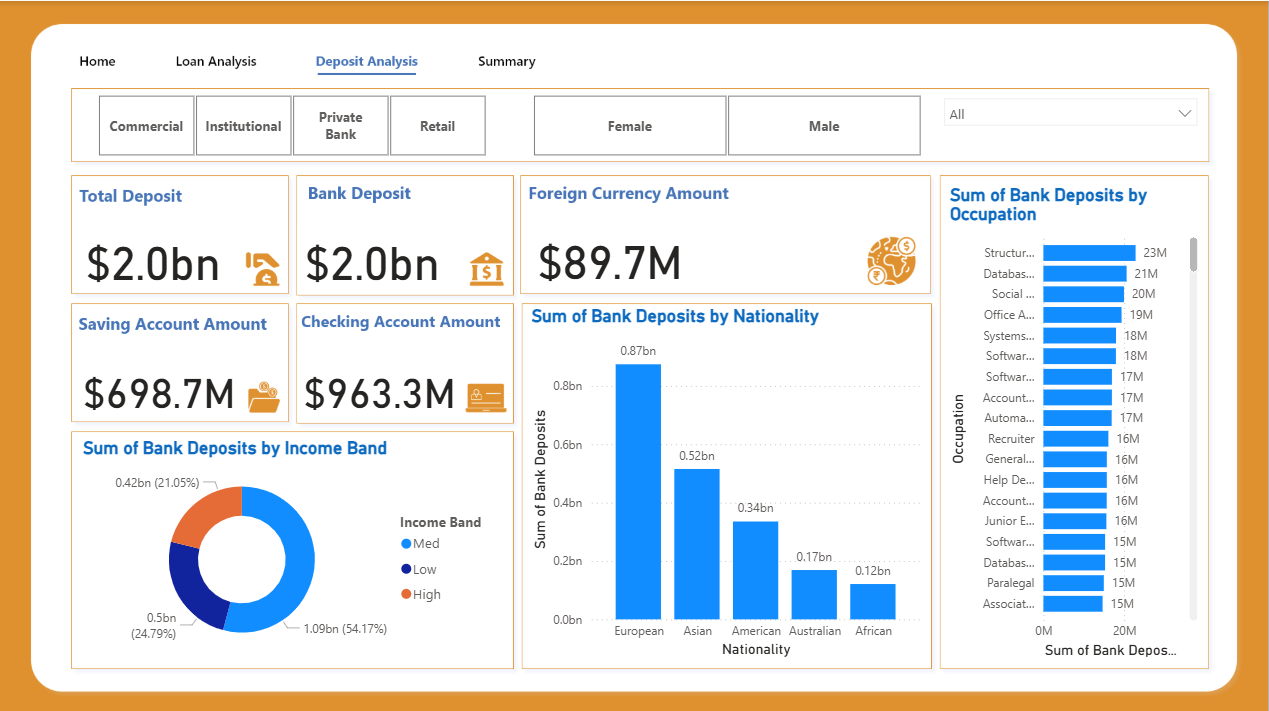

The page's visual inventory and layout, read from the dashboard file:
{"tool":"powerbi","page":{"name":"Deposit Analysis","canvas":[1280,720],"ordinal":2},"visuals":[{"type":"actionButton","box":[53.3,44,99.9,39.9],"z":0},{"type":"actionButton","box":[314.4,44,116.8,39.9],"z":1000},{"type":"actionButton","box":[452.7,44,116.8,39.9],"z":2000},{"type":"actionButton","box":[164.4,44.6,99.9,39.9],"z":3000},{"type":"slicer","fields":{"Values":["Banking.BRId"]},"box":[78.4,92.2,430.2,66.1],"z":4000},{"type":"slicer","fields":{"Values":["Banking.GenderId"]},"box":[517.7,92.2,430.2,66.1],"z":5000},{"type":"slicer","fields":{"Values":["Banking.IAId"]},"box":[947.9,92.2,265.8,66.1],"z":6000},{"type":"card","fields":{"Values":["Banking.Total Deposit"]},"box":[78.4,227.4,150.6,64.5],"z":7000},{"type":"card","fields":{"Values":["Sum(Banking.Bank Deposits)"]},"box":[299.6,227.4,150.6,64.5],"z":8000},{"type":"card","fields":{"Values":["Banking.Total Saving Amount"]},"box":[73.6,359.5,172.1,63.9],"z":9000},{"type":"card","fields":{"Values":["Sum(Banking.Checking Accounts)"]},"box":[299.6,359.5,165.9,64.5],"z":10000},{"type":"card","fields":{"Values":["Sum(Banking.Foreign Currency Account)"]},"box":[533.1,224.3,164.4,69.1],"z":11000},{"type":"donutChart","fields":{"Category":["Banking.Income Band"],"Y":["Sum(Banking.Bank Deposits)"]},"box":[78.4,440.9,430.2,225.8],"z":12000},{"type":"clusteredColumnChart","fields":{"Category":["Banking.Nationality"],"Y":["Sum(Banking.Bank Deposits)"]},"box":[531.6,307.3,402.5,359.5],"z":13000},{"type":"clusteredBarChart","fields":{"Category":["Banking.Occupation"],"Y":["Sum(Banking.Bank Deposits)"]},"box":[954,184.4,259.6,482.4],"z":14000}]}

Visuals, with their boxes in screenshot pixels (x1, y1, x2, y2), scaled from the page's 1280x720 canvas onto the 1269x711 screenshot:
actionButton: bbox=[53, 43, 152, 83]
actionButton: bbox=[312, 43, 427, 83]
actionButton: bbox=[449, 43, 565, 83]
actionButton: bbox=[163, 44, 262, 83]
slicer - Banking.BRId: bbox=[78, 91, 504, 156]
slicer - Banking.GenderId: bbox=[513, 91, 940, 156]
slicer - Banking.IAId: bbox=[940, 91, 1203, 156]
card - Banking.Total Deposit: bbox=[78, 225, 227, 288]
card - Sum(Banking.Bank Deposits): bbox=[297, 225, 446, 288]
card - Banking.Total Saving Amount: bbox=[73, 355, 244, 418]
card - Sum(Banking.Checking Accounts): bbox=[297, 355, 461, 419]
card - Sum(Banking.Foreign Currency Account): bbox=[529, 221, 692, 290]
donutChart - Banking.Income Band x Sum(Banking.Bank Deposits): bbox=[78, 435, 504, 658]
clusteredColumnChart - Banking.Nationality x Sum(Banking.Bank Deposits): bbox=[527, 303, 926, 658]
clusteredBarChart - Banking.Occupation x Sum(Banking.Bank Deposits): bbox=[946, 182, 1203, 658]
